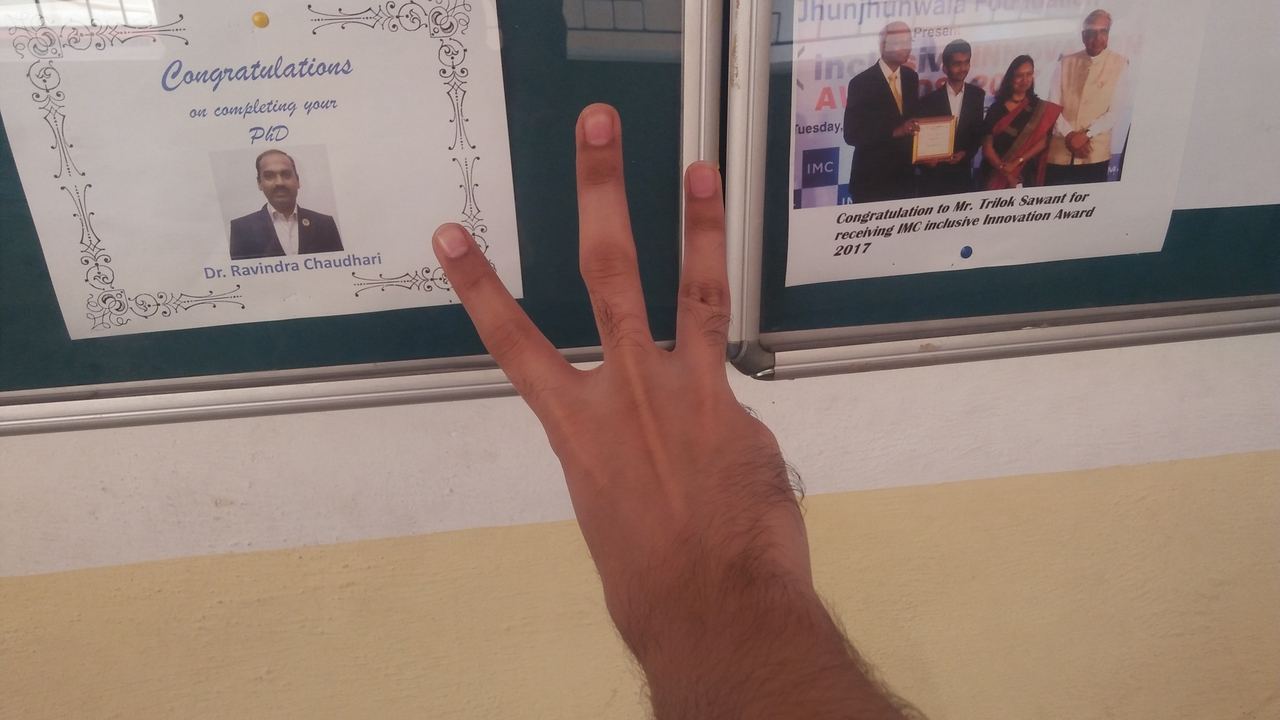fingertip: (564, 98, 628, 154), (674, 152, 728, 206), (422, 216, 478, 266)
